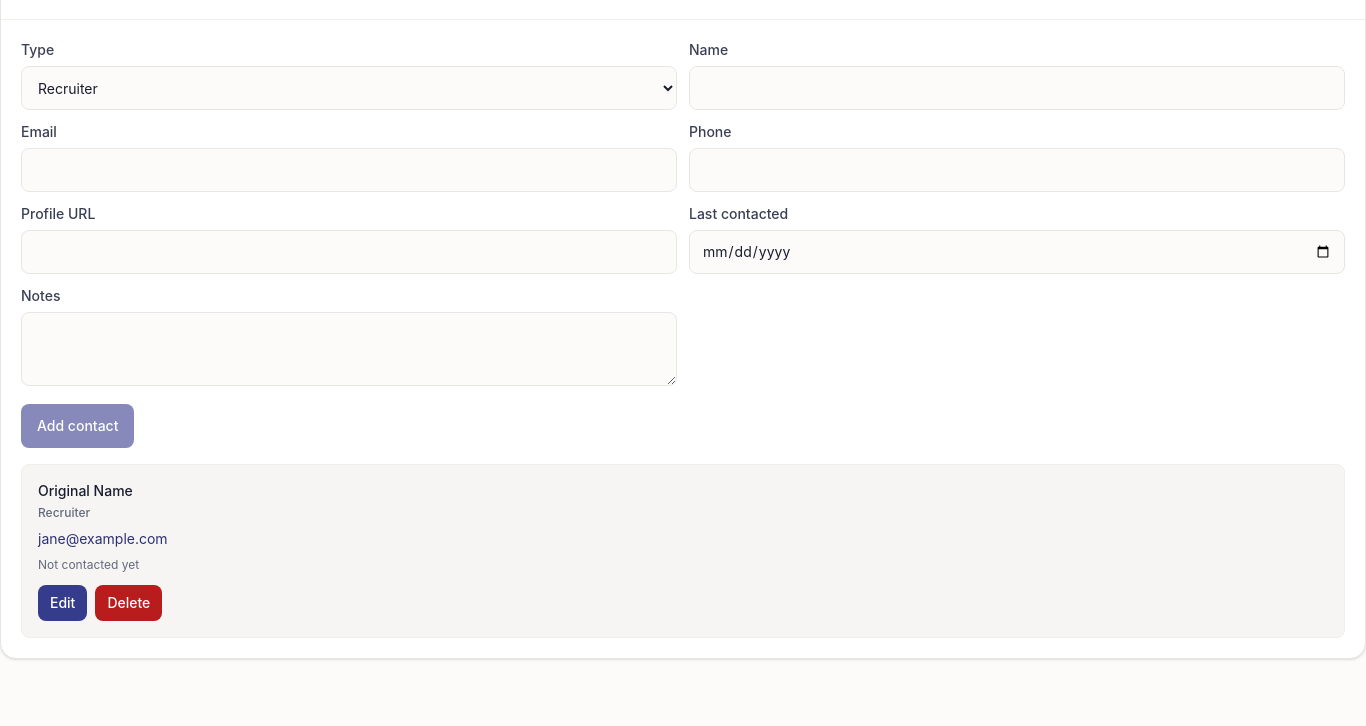
JobDetailContactsPanel › cancels editing without saving
Expected: the text "Original Name" is shown, x1=38 y1=482 x2=133 y2=499
Click the button with aria-label "Edit contact Original Name" at (63,603), box x1=38 y1=585 x2=87 y2=621
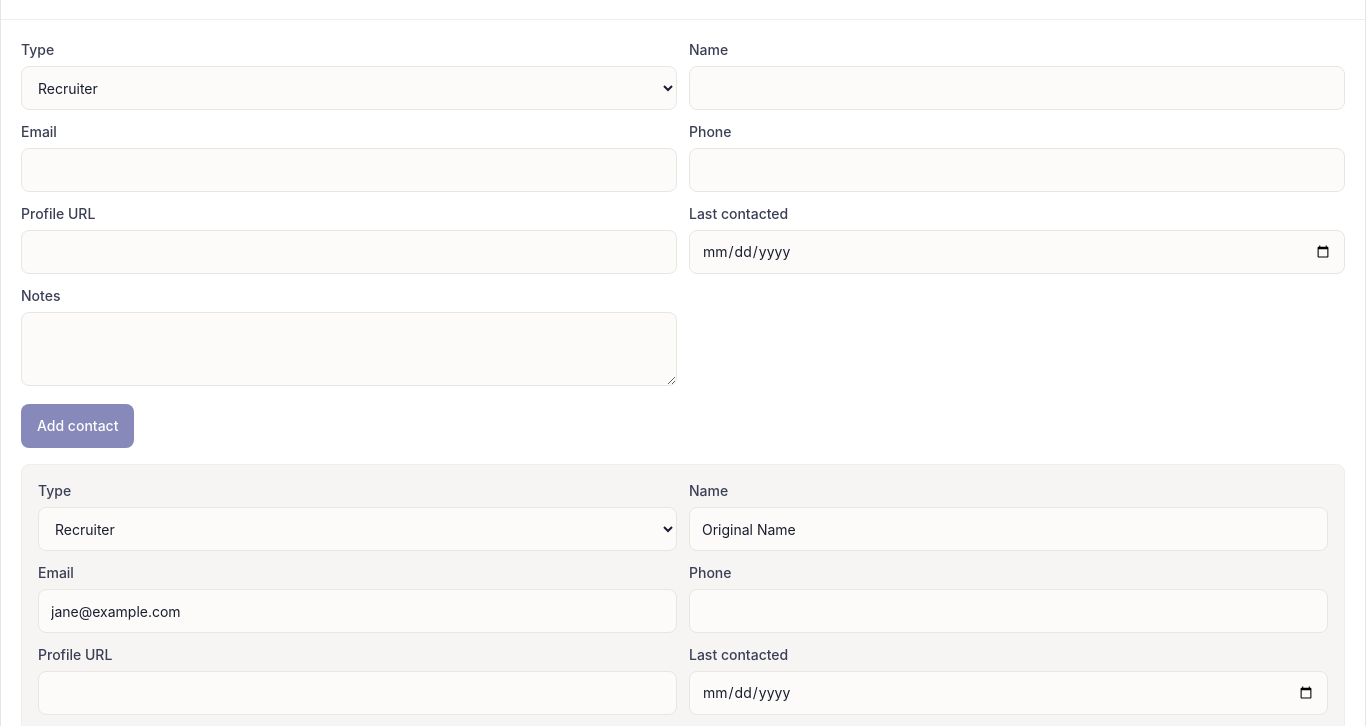
Replace the text in the 2nd field labelled "Name" with "Discarded Name" at (1008,529), box x1=689 y1=507 x2=1328 y2=551
(page scrolled)
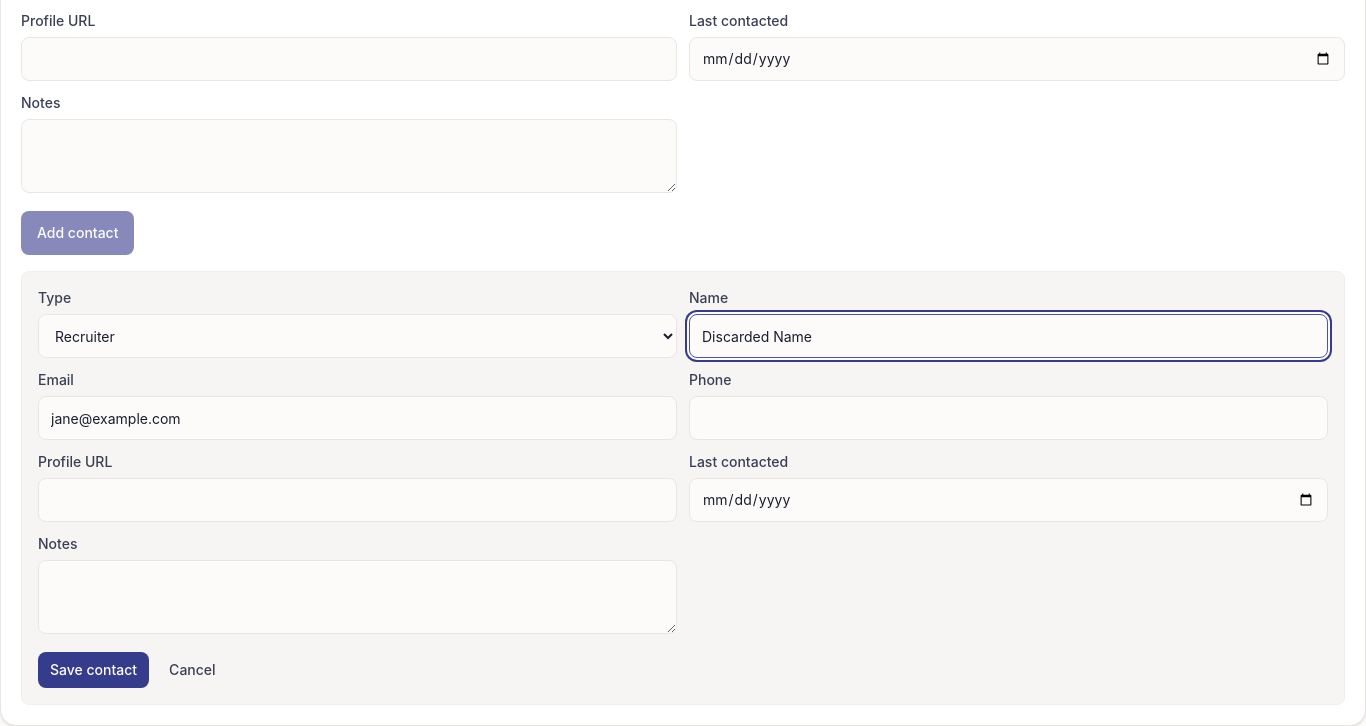
Click the button "Cancel" at (192,670), box x1=157 y1=652 x2=228 y2=688
(page scrolled)
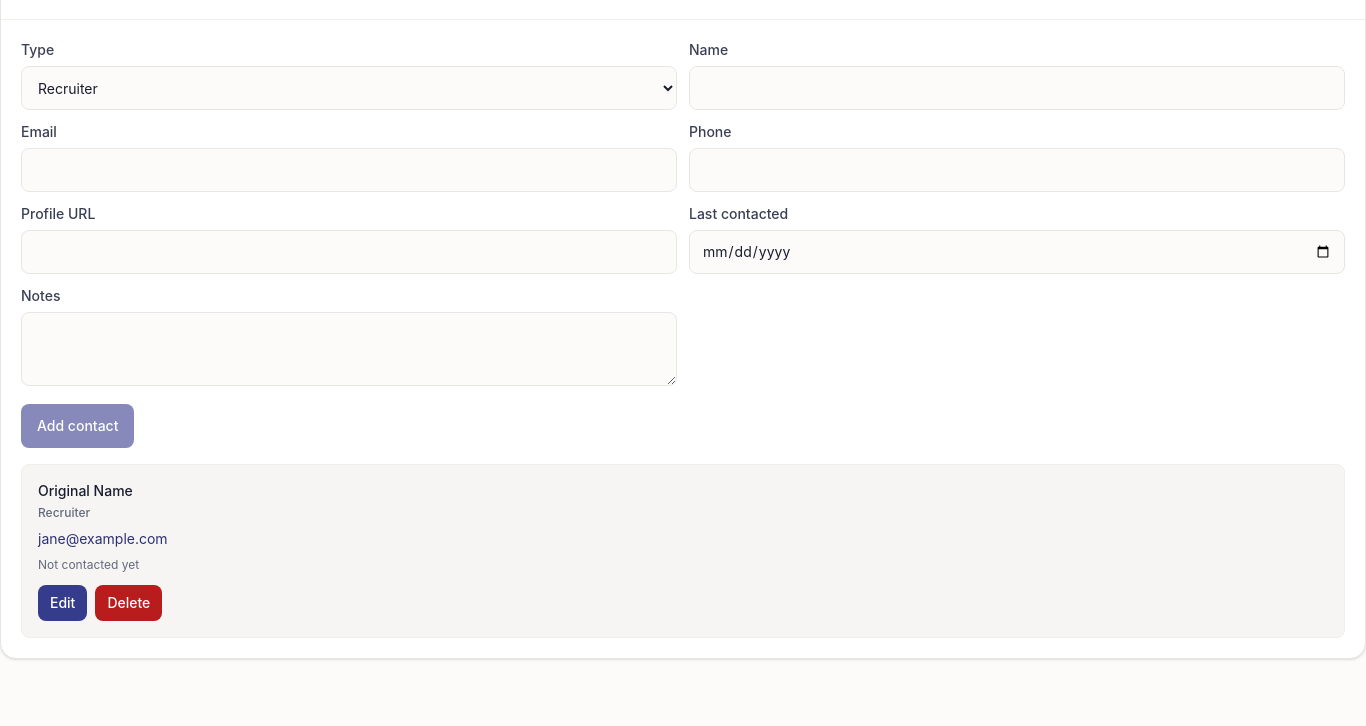
Expected: the text "Discarded Name" is not shown
Expected: the text "Original Name" is shown, x1=38 y1=482 x2=133 y2=499
